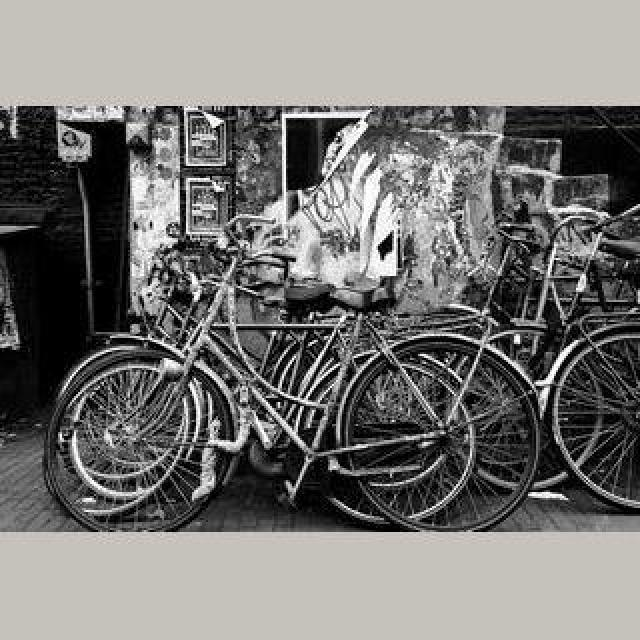Person: (58, 210, 530, 520), (397, 211, 639, 509)
